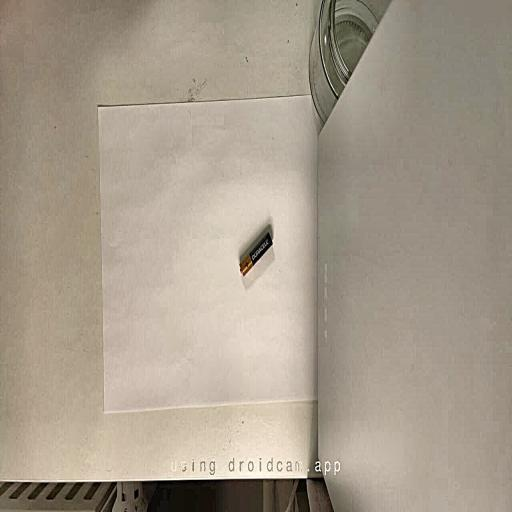DuracellAAA: (240, 232, 272, 276)
